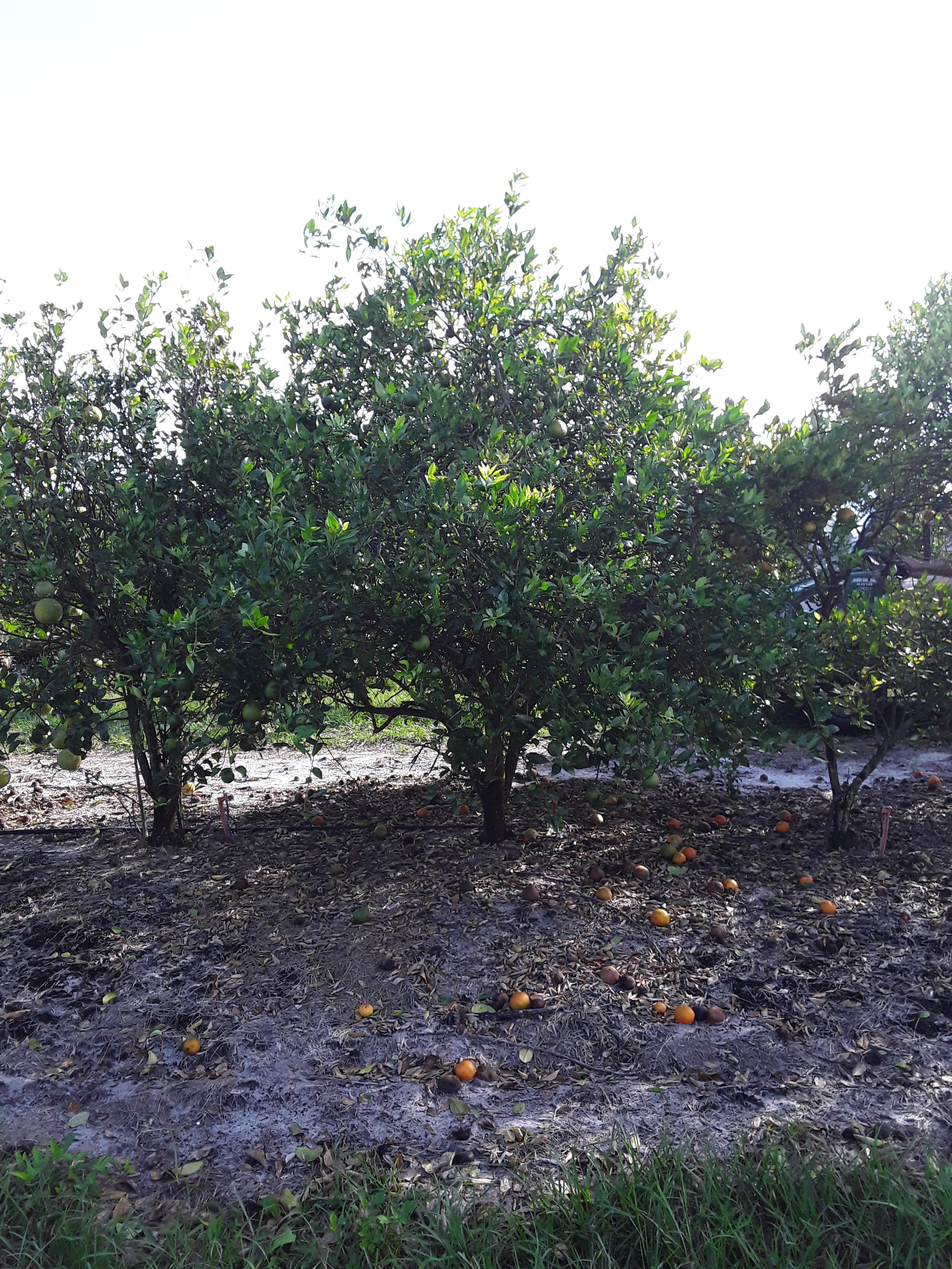fruit_on_ground: (32, 597, 66, 625), (59, 710, 93, 731), (56, 748, 85, 770), (241, 700, 266, 724), (51, 724, 74, 750), (83, 402, 107, 426), (401, 390, 427, 411), (35, 449, 62, 469), (30, 696, 55, 717), (174, 671, 197, 693), (569, 749, 592, 771), (263, 680, 287, 701), (836, 505, 858, 527), (546, 417, 570, 437), (33, 579, 58, 598), (408, 633, 433, 652), (163, 713, 189, 731), (271, 661, 293, 679), (547, 737, 565, 758), (726, 726, 746, 744), (642, 772, 662, 790), (582, 785, 602, 802), (0, 762, 12, 790), (895, 509, 913, 527), (670, 621, 689, 638), (217, 768, 236, 785), (438, 373, 455, 390), (584, 378, 600, 396), (801, 517, 817, 534), (756, 560, 774, 575), (749, 581, 764, 598), (709, 719, 725, 734), (321, 395, 336, 410), (421, 337, 435, 353), (158, 695, 175, 708), (416, 459, 432, 472), (923, 509, 936, 524), (446, 327, 458, 339)
fruit_on_tree: (453, 1056, 480, 1086), (649, 905, 672, 929), (672, 1005, 698, 1026), (436, 1074, 464, 1093), (597, 963, 618, 988), (507, 989, 528, 1014), (486, 991, 512, 1010), (870, 1122, 894, 1142), (377, 951, 397, 974), (708, 1005, 731, 1024), (180, 1035, 199, 1058), (178, 778, 201, 796), (372, 823, 392, 843), (864, 1048, 884, 1068), (521, 825, 539, 847), (352, 904, 370, 926), (521, 883, 540, 903), (618, 975, 639, 993), (651, 996, 669, 1017), (798, 871, 815, 893), (823, 940, 843, 958), (691, 1001, 709, 1021), (634, 863, 652, 882), (709, 925, 726, 944), (772, 1026, 792, 1042), (706, 879, 723, 897), (596, 885, 613, 903), (108, 851, 124, 870), (233, 875, 247, 896), (620, 858, 637, 875), (723, 878, 738, 897), (357, 1000, 372, 1019), (926, 774, 943, 790), (696, 820, 713, 836), (681, 844, 698, 860), (821, 898, 836, 916), (775, 820, 791, 836), (590, 867, 606, 883), (602, 865, 621, 878), (459, 879, 475, 894), (293, 914, 308, 930), (403, 843, 420, 857), (588, 813, 607, 825), (304, 785, 319, 800), (763, 935, 779, 949), (779, 809, 794, 823), (401, 831, 414, 847), (785, 930, 802, 942), (524, 766, 537, 781), (713, 813, 726, 828), (458, 802, 470, 817), (417, 806, 429, 821), (668, 815, 680, 830), (293, 791, 307, 803), (606, 794, 618, 808), (349, 849, 361, 863), (901, 909, 913, 923), (62, 794, 75, 806), (538, 776, 552, 787), (313, 814, 324, 828), (609, 836, 624, 846), (709, 798, 724, 807), (34, 777, 47, 787), (618, 797, 631, 807), (468, 838, 481, 848), (756, 775, 772, 783), (264, 793, 278, 801), (914, 770, 925, 780), (21, 816, 35, 823), (29, 782, 41, 790), (686, 780, 696, 789), (690, 806, 700, 815), (824, 806, 833, 816), (699, 798, 709, 806), (774, 785, 782, 794), (339, 778, 346, 787), (294, 776, 301, 783), (306, 776, 313, 783)
